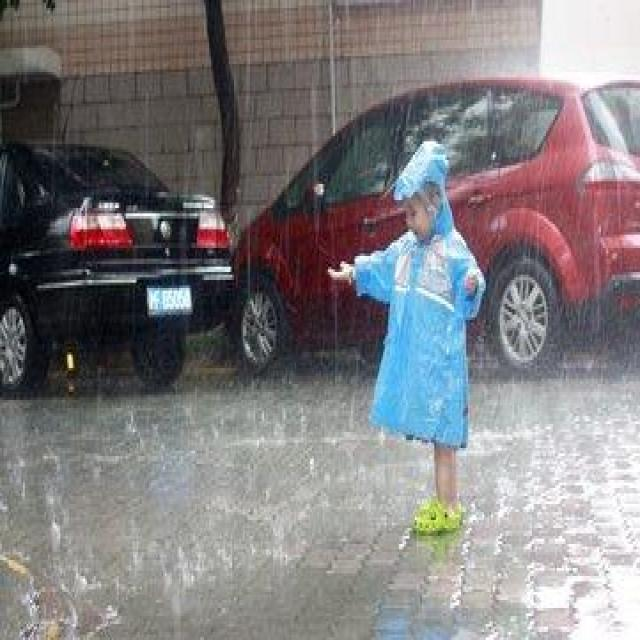car: (232, 69, 638, 368), (0, 138, 232, 386)
